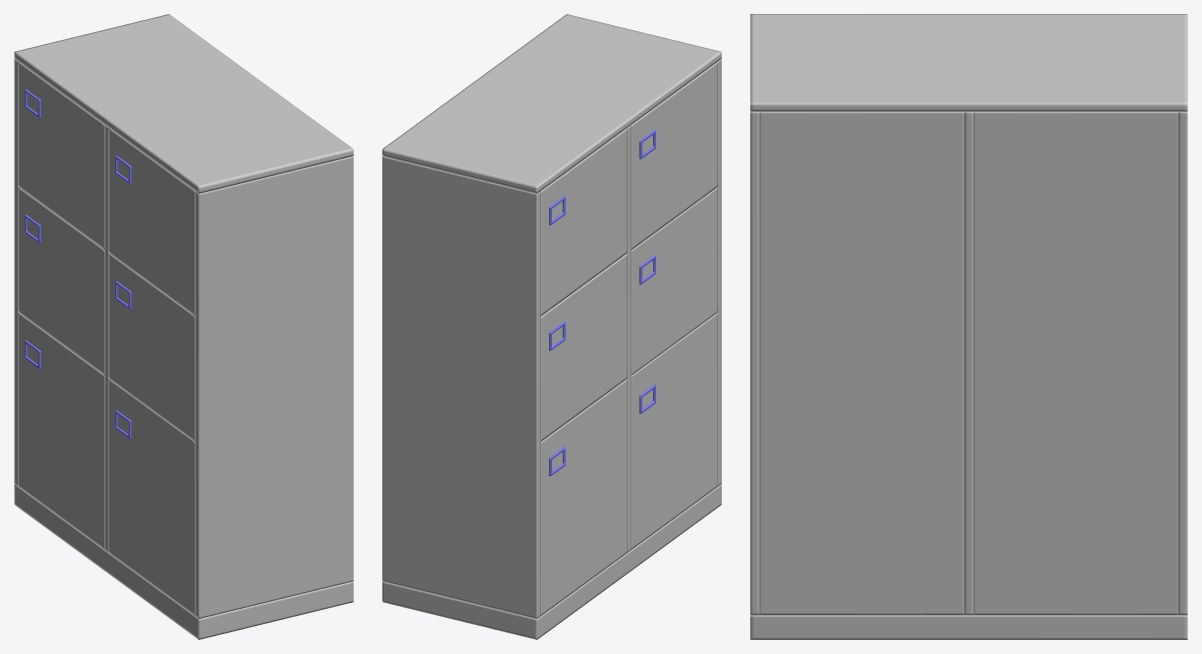
File: Cabinet_04.fbx
The picture shows the model from 3 angles, left to right: view 1: azimuth 30°, elevation 25°; view 2: azimuth 150°, elevation 25°; view 3: azimuth 270°, elevation 25°; orthographic projection. The views are drawn at different scales.
Parts seen in each view (by area): view 1: Cabinet_04_LOD00; view 2: Cabinet_04_LOD00; view 3: Cabinet_04_LOD00.
Part boxes in pixels (bbox=[...]): Cabinet_04_LOD00: bbox=[14, 14, 353, 639]; Cabinet_04_LOD00: bbox=[382, 14, 721, 639]; Cabinet_04_LOD00: bbox=[750, 14, 1187, 639].
Size of what is drawn, in the model's own units: 73.44 by 203 by 150.
